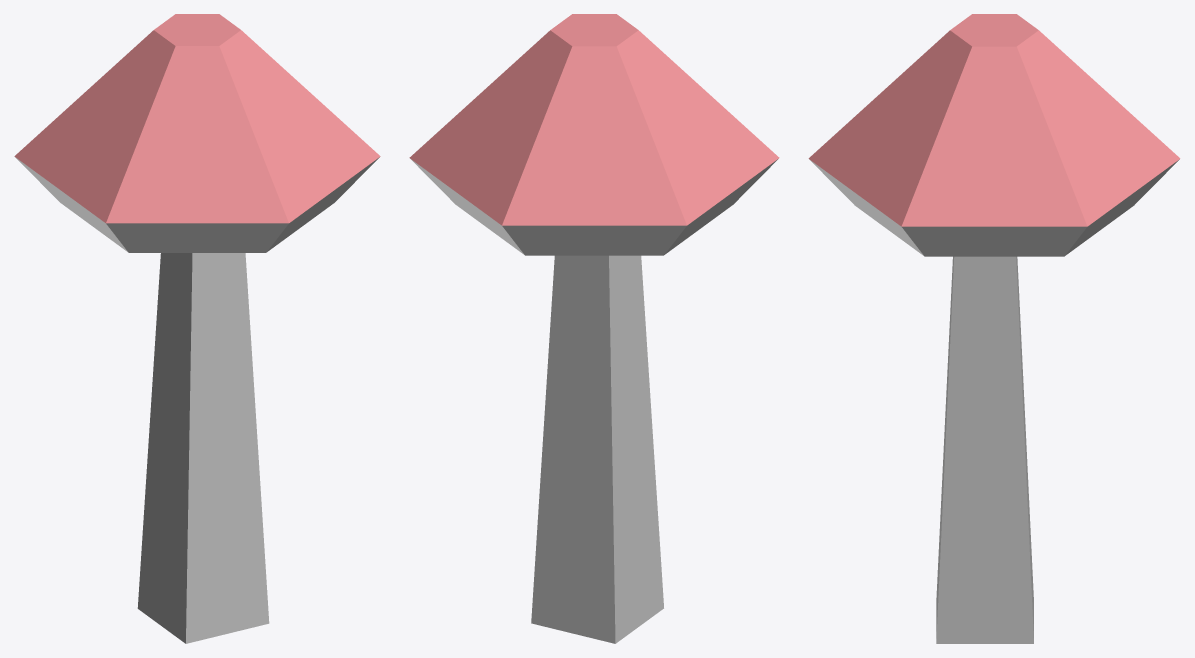
File: mushroom_redTall.gltf
The picture shows the model from 3 angles, left to right: view 1: azimuth 30°, elevation 25°; view 2: azimuth 150°, elevation 25°; view 3: azimuth 270°, elevation 25°; orthographic projection.
Visible parts, largest first — view 1: mushroom_redTall; view 2: mushroom_redTall; view 3: mushroom_redTall.
Part boxes in pixels (<box>): mushroom_redTall: <box>14,14,380,643</box>; mushroom_redTall: <box>409,14,779,643</box>; mushroom_redTall: <box>808,14,1180,643</box>.
Size of the model in its own units: 0.1235 by 0.2505 by 0.1426.
